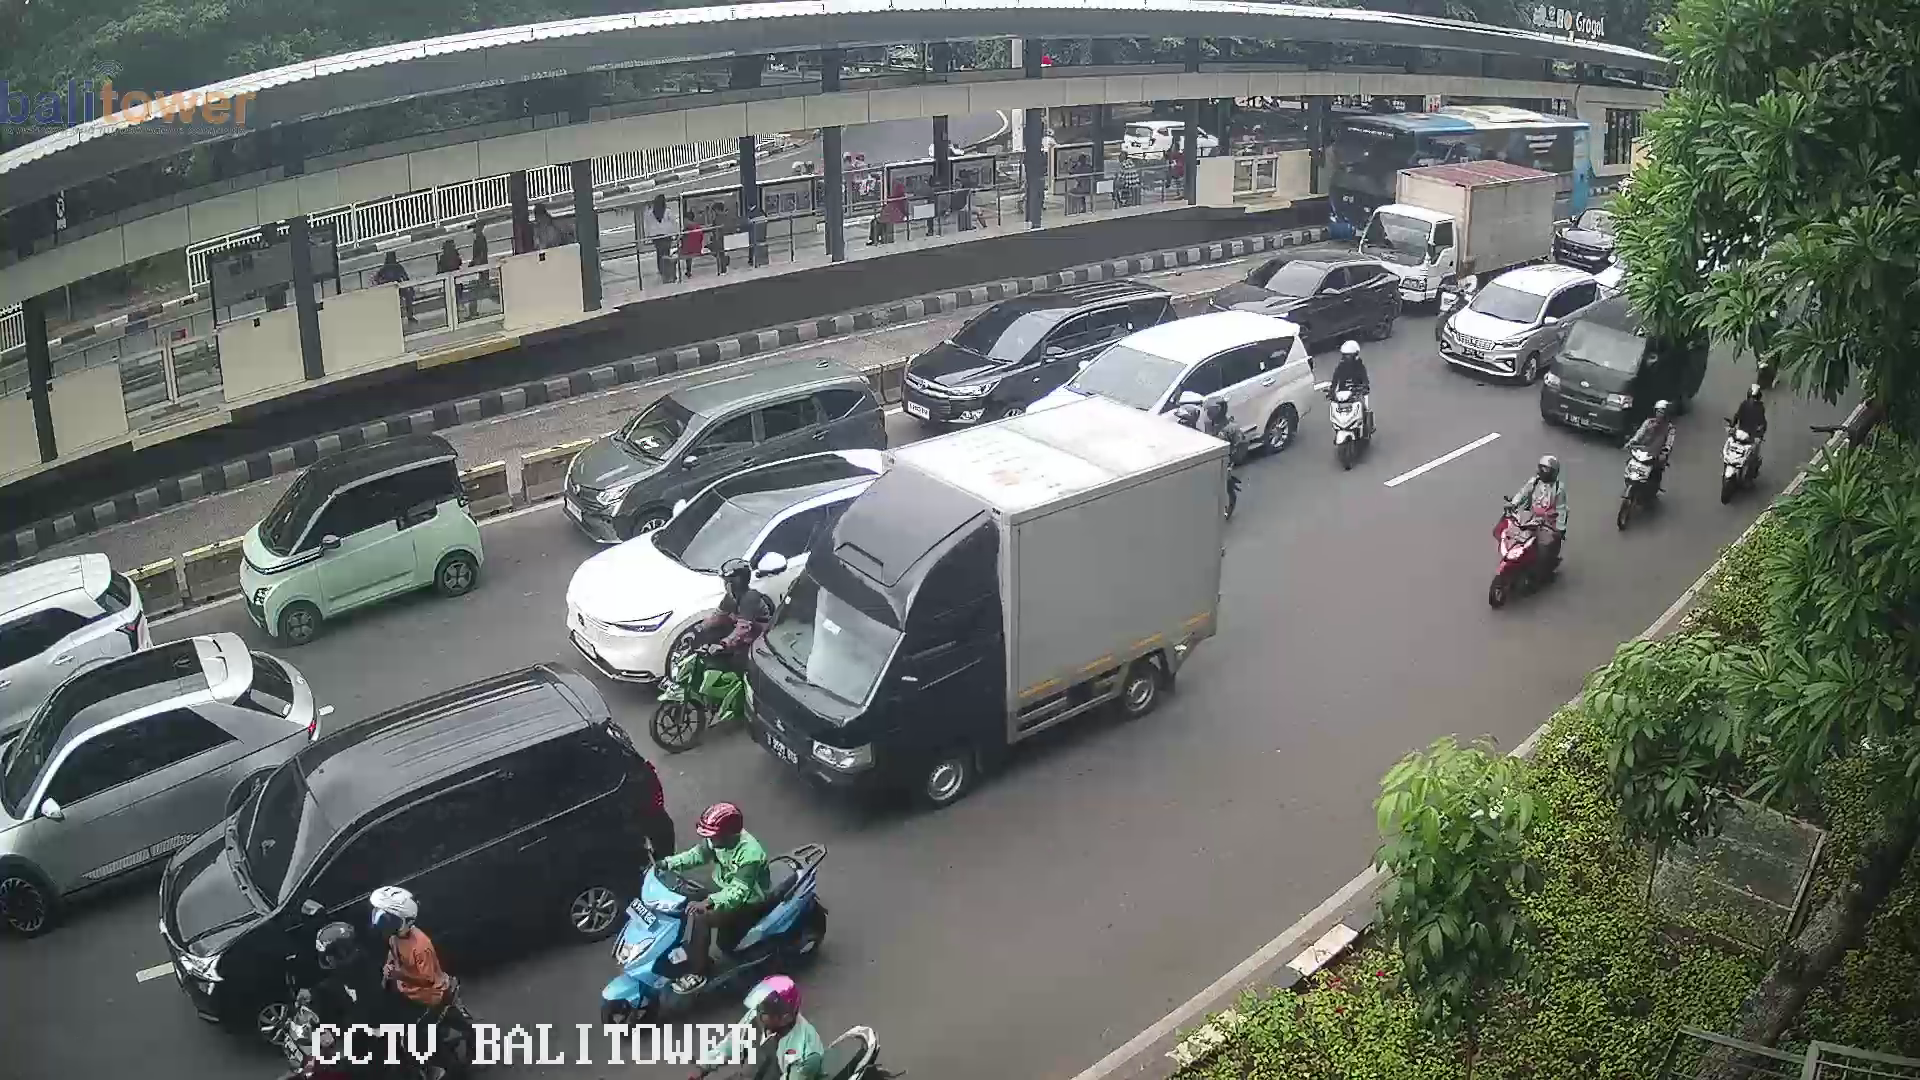full-face helmet: (304, 910, 363, 990), (1170, 398, 1198, 433)
half-face helmet: (739, 978, 825, 1043), (366, 882, 449, 949), (715, 549, 763, 602), (1645, 390, 1682, 427), (1533, 449, 1565, 492), (1337, 337, 1365, 367), (1204, 400, 1233, 427)
